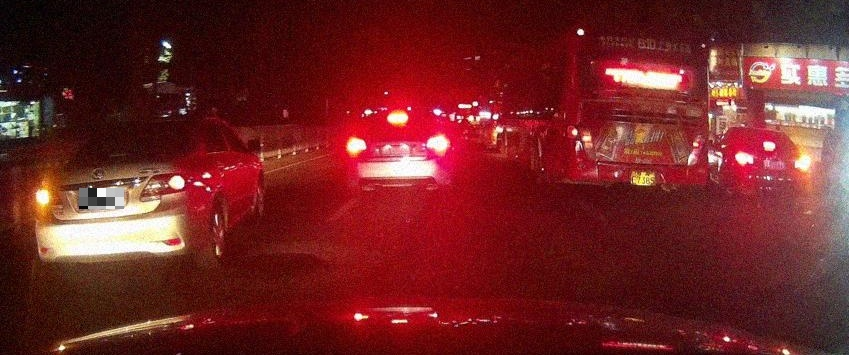L_light: (577, 126, 597, 160), (36, 191, 63, 205), (735, 151, 754, 165), (348, 139, 366, 151)
R_light: (140, 173, 187, 195), (687, 135, 703, 165), (427, 137, 447, 148), (795, 157, 809, 169)
T_light: (387, 113, 408, 123), (634, 34, 654, 42), (141, 124, 163, 130), (762, 141, 776, 150)
night-brake: (347, 112, 450, 192)
night-left: (34, 117, 199, 275)
night-no: (564, 22, 708, 192)
night-right: (734, 127, 810, 198)
plate_1: (79, 188, 124, 209)
